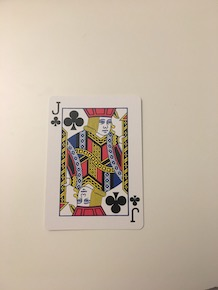JackOfClubs: (33, 92, 152, 233)
